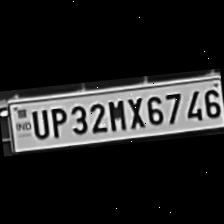2: (86, 98, 108, 134)
3: (66, 100, 89, 135)
4: (180, 86, 202, 121)
6: (200, 83, 223, 118), (142, 91, 164, 126)
7: (161, 88, 182, 123)
M: (105, 96, 127, 132)
P: (46, 104, 68, 138)
U: (28, 106, 50, 140)
X: (124, 94, 144, 130)
